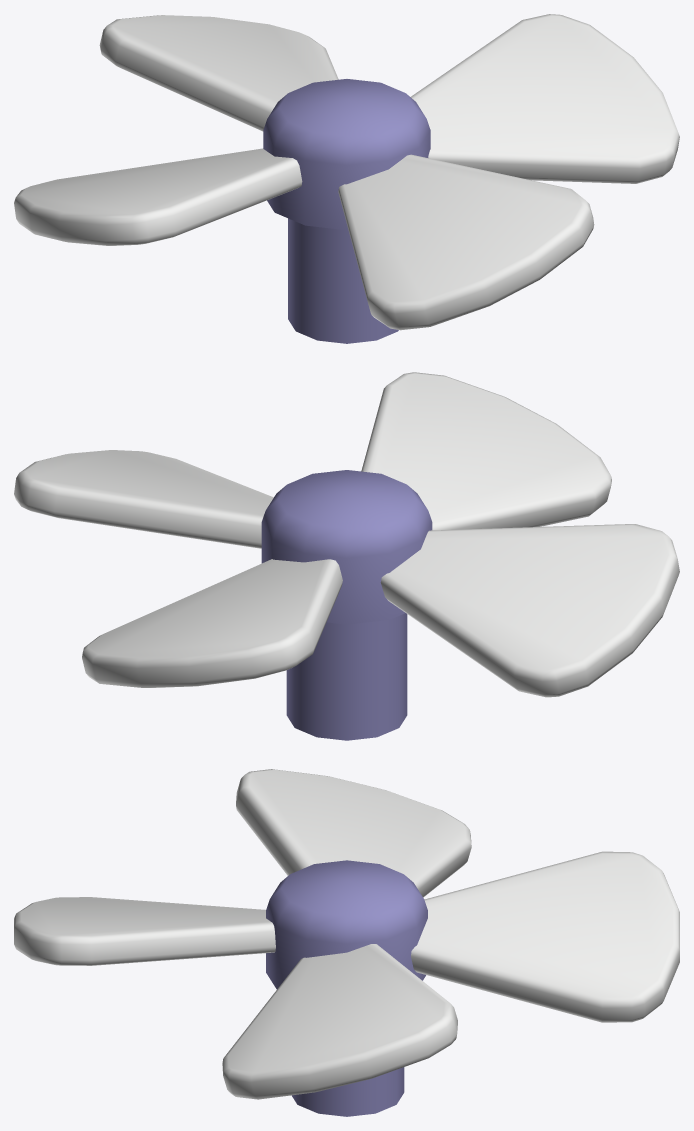
The model's file is Boosters.glb.
3 renders of one model, top to bottom at view 1: azimuth 30°, elevation 25°; view 2: azimuth 150°, elevation 25°; view 3: azimuth 270°, elevation 25°, orthographic. The views are drawn at different scales.
Parts seen in each view (by area): view 1: booster_005; view 2: booster_005; view 3: booster_005.
Boxes of the visible parts, box(x1,y1,x2,y2) form: booster_005: box(14, 14, 679, 343); booster_005: box(14, 372, 679, 740); booster_005: box(14, 769, 679, 1116).
Bounding box in the file's own units: 3.63 × 1.28 × 3.63.
Materials: 1 (1 with a texture image).
